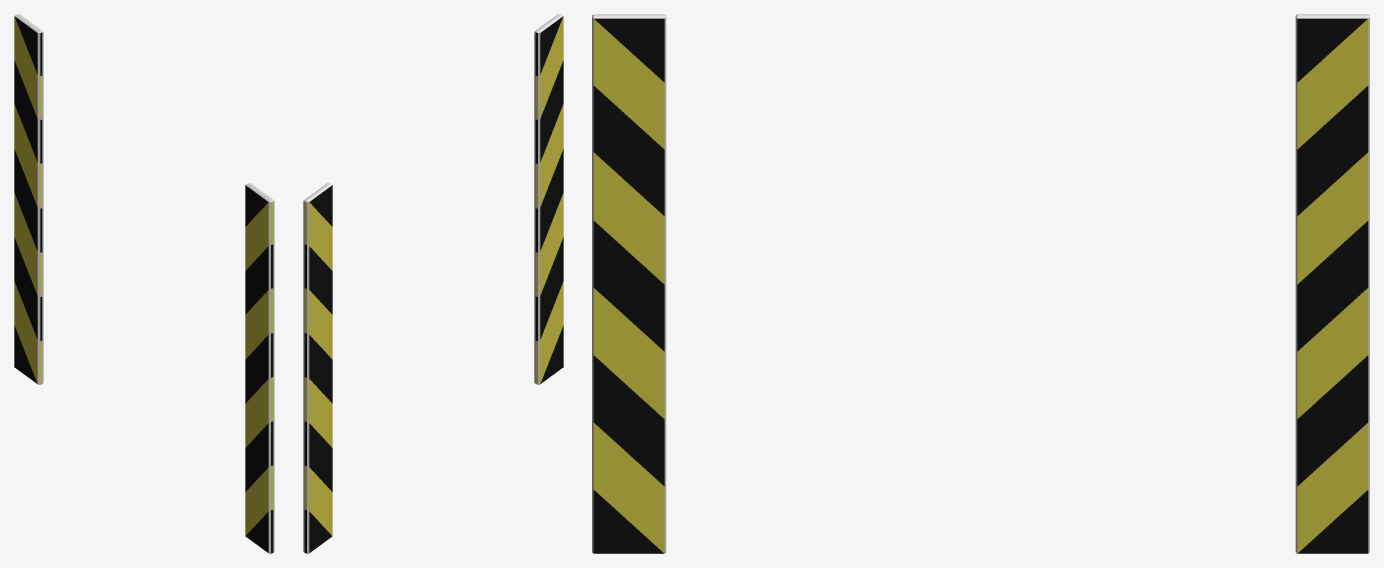
File: protection black&yellow.fbx
The picture shows the model from 3 angles, left to right: view 1: azimuth 30°, elevation 25°; view 2: azimuth 150°, elevation 25°; view 3: azimuth 270°, elevation 25°; orthographic projection. The views are drawn at different scales.
Parts seen in each view (by area): view 1: Protection yellow&black; view 2: Protection yellow&black; view 3: Protection yellow&black.
Part boxes in pixels (x1,y1,x2,y2): Protection yellow&black: (14,14,274,553); Protection yellow&black: (303,14,563,553); Protection yellow&black: (592,14,1369,553).
Bounding box in the file's own units: 14.18 × 817 × 1070.
